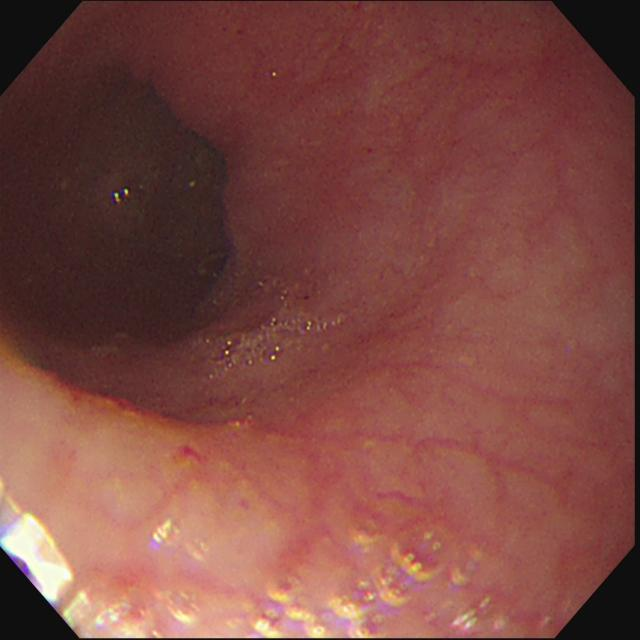E: (11, 61, 244, 353)
T: (250, 520, 510, 638), (199, 308, 347, 375)
U: (2, 505, 74, 606), (63, 588, 203, 638), (155, 517, 208, 560)
